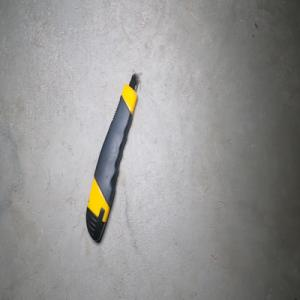Cutter: (84, 74, 139, 242)
